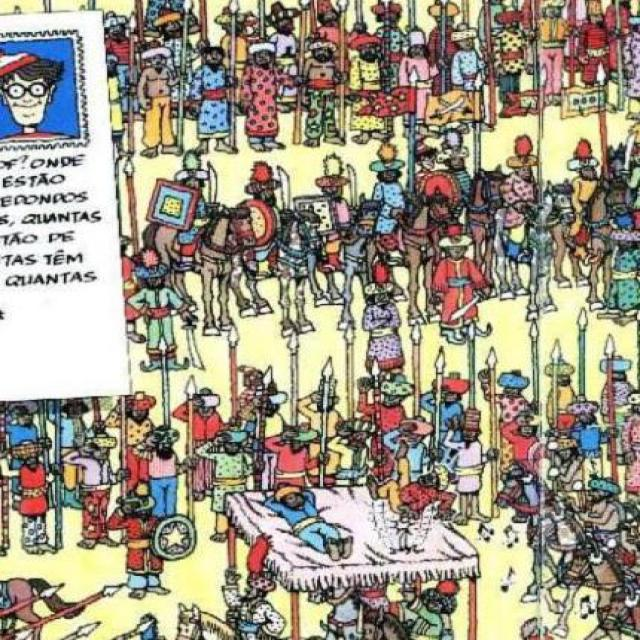waldo: (1, 49, 66, 126), (410, 140, 438, 170)
